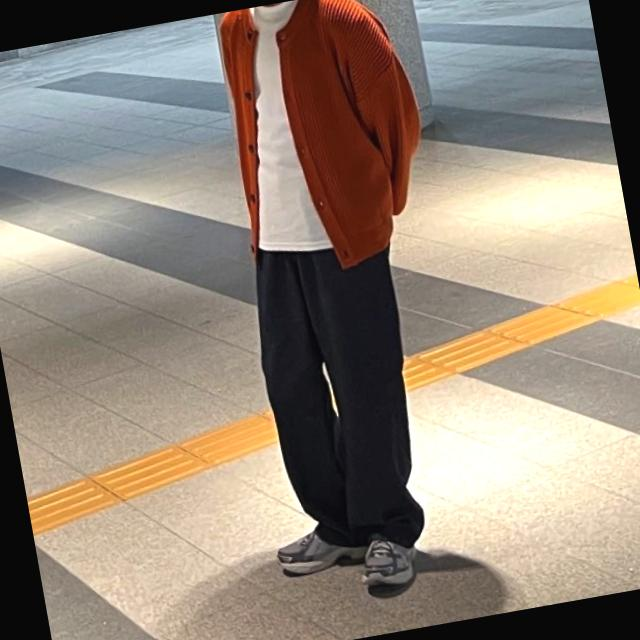cardigan: (207, 0, 441, 285)
cottonpants: (235, 205, 440, 564)
